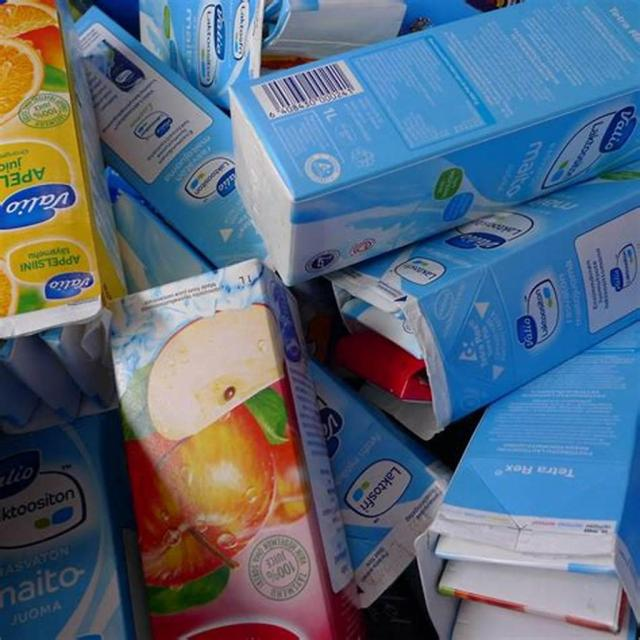drink carton: (230, 0, 640, 287), (102, 255, 368, 640), (331, 175, 640, 444), (0, 0, 135, 345)
